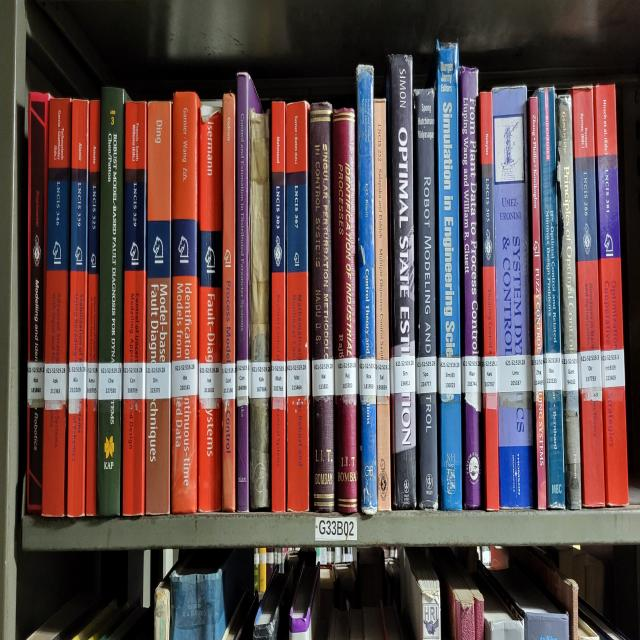Book: (492, 87, 534, 509), (592, 84, 629, 506), (571, 87, 605, 506), (386, 57, 416, 509), (98, 87, 128, 517), (171, 92, 200, 514), (42, 97, 71, 517), (436, 43, 462, 509), (538, 87, 565, 509), (236, 73, 261, 511), (122, 103, 148, 517), (145, 103, 171, 514), (332, 108, 358, 514), (414, 89, 439, 509), (556, 95, 581, 509), (285, 100, 310, 511), (310, 103, 335, 511), (356, 65, 378, 514), (459, 68, 481, 509), (199, 100, 222, 511), (28, 92, 50, 514), (68, 100, 89, 517), (480, 92, 500, 511), (250, 111, 270, 509), (374, 97, 391, 511), (529, 95, 546, 509), (85, 100, 100, 517), (271, 103, 286, 511), (222, 95, 236, 511)
Label: (498, 354, 532, 392), (171, 360, 198, 398), (44, 363, 68, 403), (146, 363, 171, 400), (391, 354, 415, 392), (601, 349, 625, 387), (312, 357, 334, 398), (579, 349, 601, 390), (286, 360, 309, 398), (335, 357, 358, 395), (99, 363, 122, 400), (439, 357, 461, 395), (124, 363, 146, 400), (199, 363, 221, 400), (416, 357, 436, 395), (250, 363, 271, 398), (544, 352, 562, 392), (461, 357, 481, 392), (359, 357, 376, 398), (28, 363, 44, 406), (562, 352, 579, 392), (481, 354, 498, 392), (69, 363, 86, 400), (271, 360, 286, 398), (236, 360, 249, 403), (376, 360, 390, 398), (222, 363, 236, 400), (532, 354, 544, 395), (86, 363, 98, 400)
